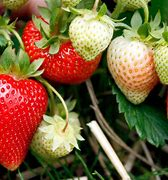Fresa: (23, 17, 103, 85), (1, 68, 49, 170)
